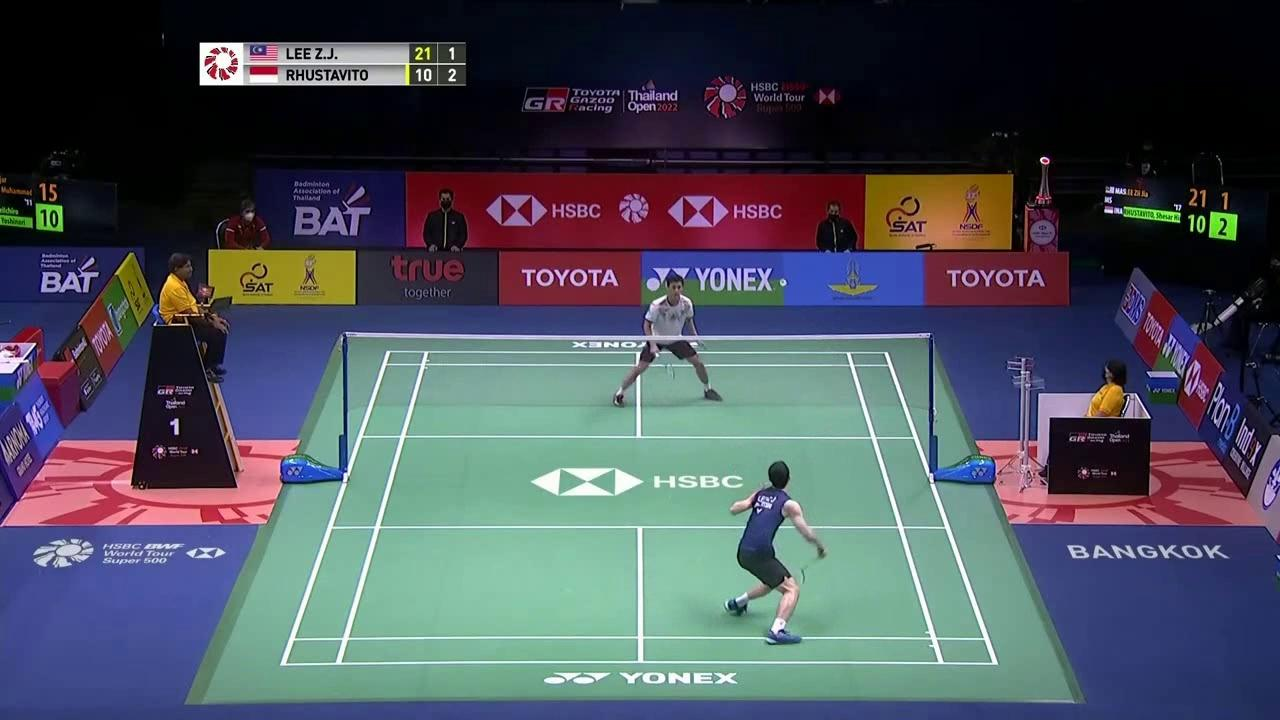racket: (784, 550, 826, 586), (650, 348, 674, 380)
shuttle: (779, 278, 787, 287)
